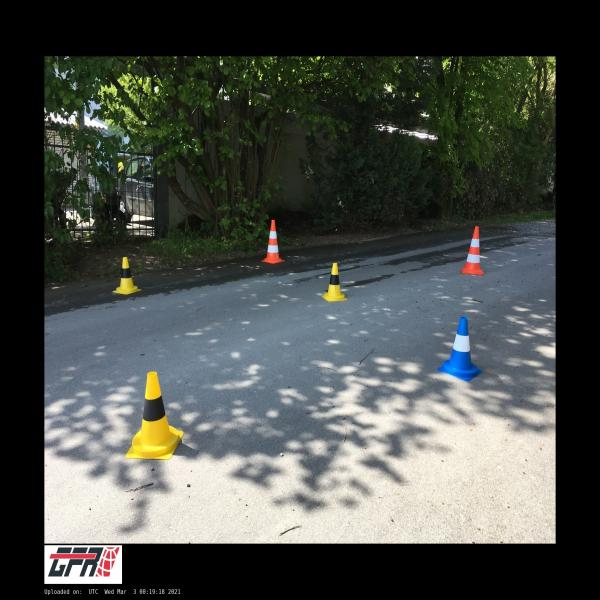blue_cone: (438, 316, 482, 382)
large_orange_cone: (462, 226, 484, 275), (262, 220, 284, 264)
yellow_cone: (126, 372, 184, 460), (113, 257, 141, 295), (322, 263, 347, 302)
